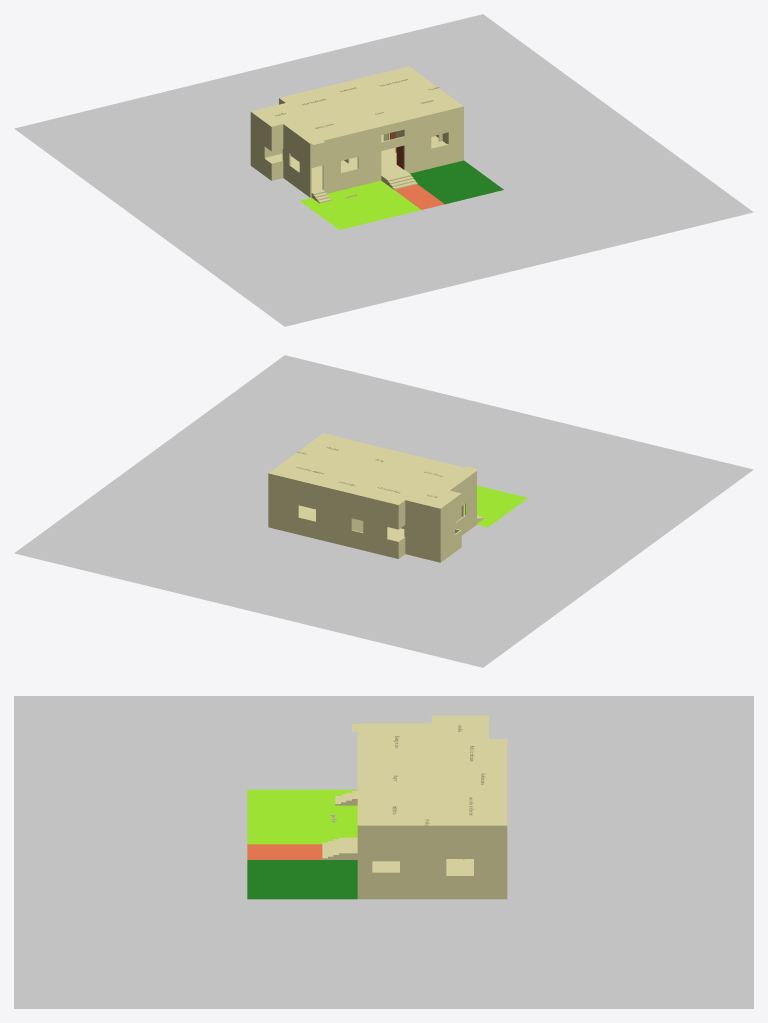
The model's file is SketchupPlan.fbx.
3 renders of one model, top to bottom at view 1: azimuth 30°, elevation 25°; view 2: azimuth 150°, elevation 25°; view 3: azimuth 270°, elevation 25°, orthographic. The views are drawn at different scales.
Visible parts, largest first — view 1: Model; view 2: Model; view 3: Model.
Part boxes in pixels (x1,y1,x2,y2): Model: (14,14,753,326); Model: (14,355,753,667); Model: (14,696,753,1008).
Size of the model in its own units: 40 by 4.43 by 40.
